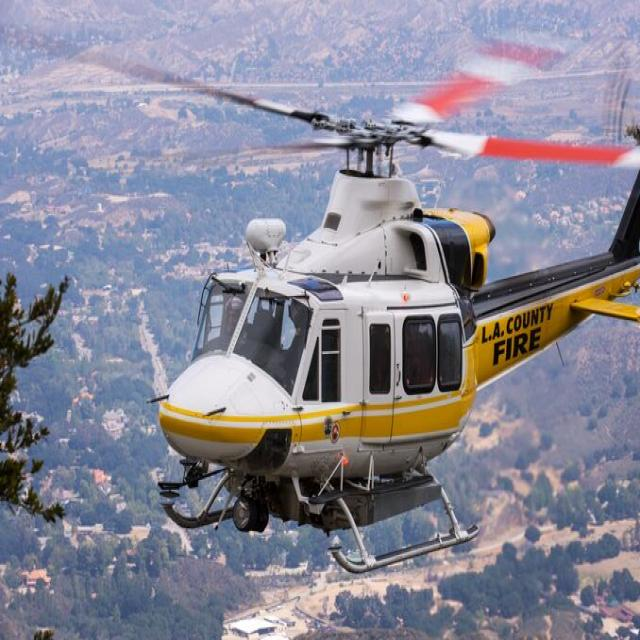helicopter: (143, 42, 640, 593)
